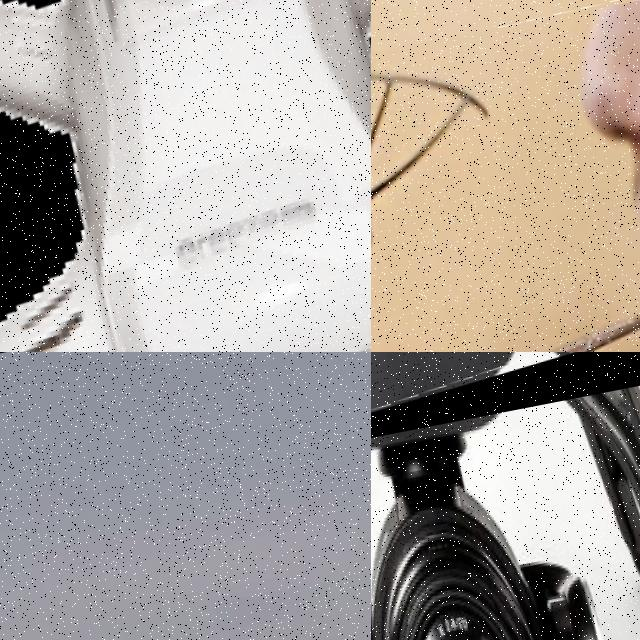drone: (0, 0, 371, 352), (371, 0, 640, 352), (371, 352, 640, 487)
